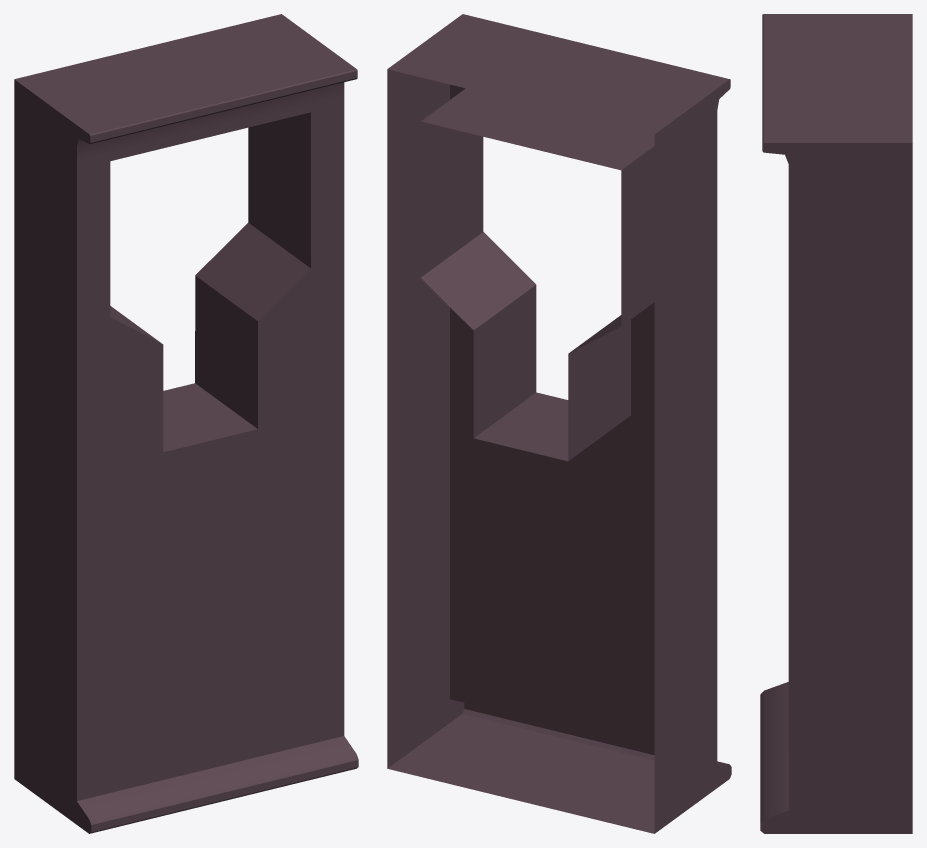
File: pared9.fbx
The picture shows the model from 3 angles, left to right: view 1: azimuth 30°, elevation 25°; view 2: azimuth 150°, elevation 25°; view 3: azimuth 270°, elevation 25°; orthographic projection.
Parts seen in each view (by area): view 1: 1; view 2: 1; view 3: 1.
Part boxes in pixels (bbox=[...]): 1: bbox=[14, 14, 358, 833]; 1: bbox=[387, 14, 731, 833]; 1: bbox=[760, 14, 912, 833].
Bounding box in the file's own units: 100 × 250 × 50.01.
